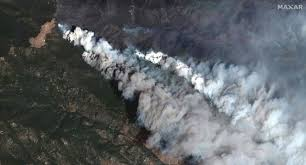smoke: (164, 63, 305, 157)
